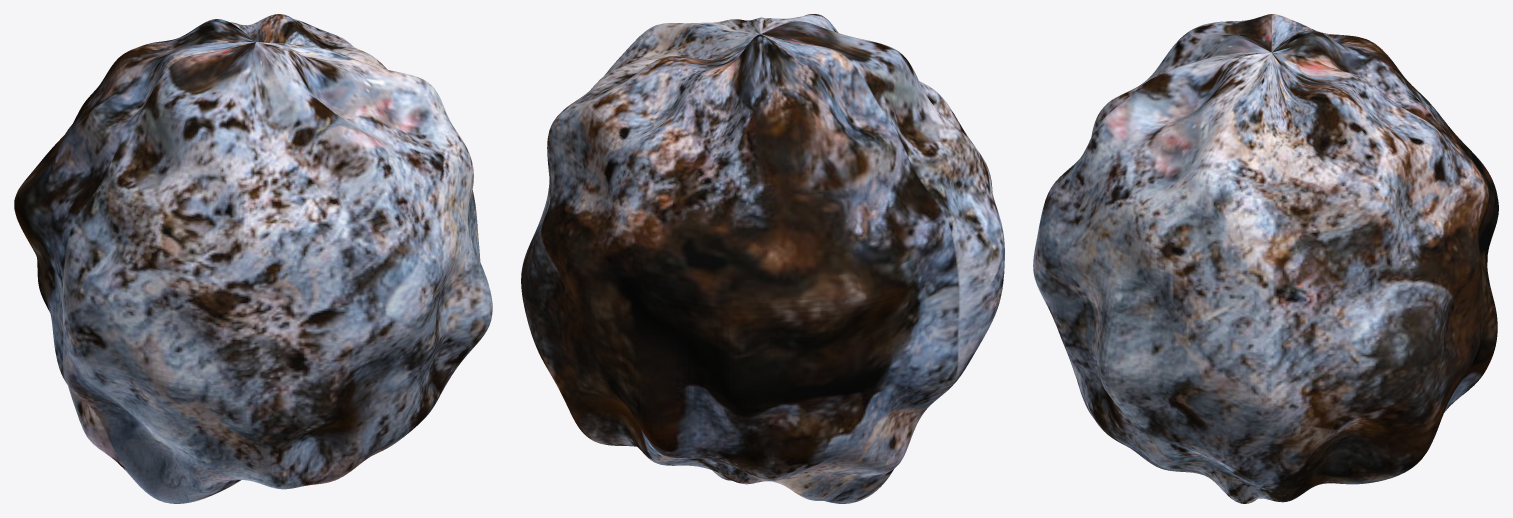
Rendered from Asteroid_2.fbx.
3 views of the same model, side by side, from view 1: azimuth 30°, elevation 25°; view 2: azimuth 150°, elevation 25°; view 3: azimuth 270°, elevation 25° (orthographic). The views are drawn at different scales.
Parts seen in each view (by area): view 1: Asteroid_2; view 2: Asteroid_2; view 3: Asteroid_2.
Boxes of the visible parts, bbox=[...] form: Asteroid_2: bbox=[14, 14, 492, 503]; Asteroid_2: bbox=[521, 14, 1004, 503]; Asteroid_2: bbox=[1033, 14, 1498, 503].
Size of the model in its own units: 267 by 284 by 264.
